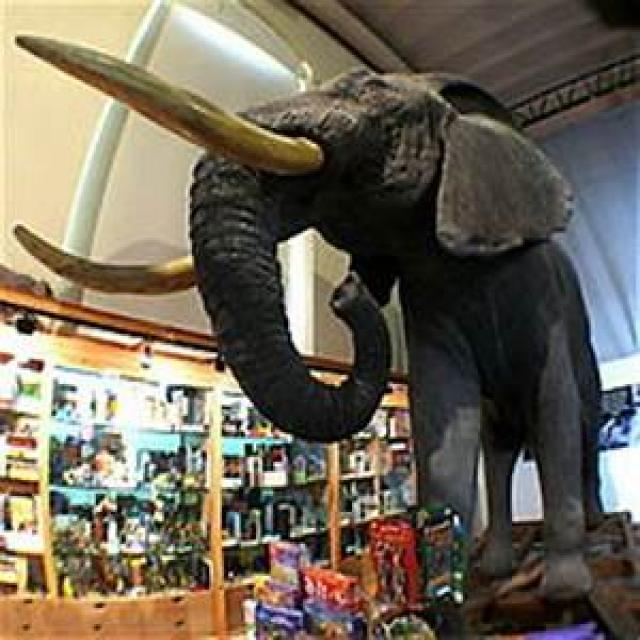elephant: (190, 71, 604, 619)
